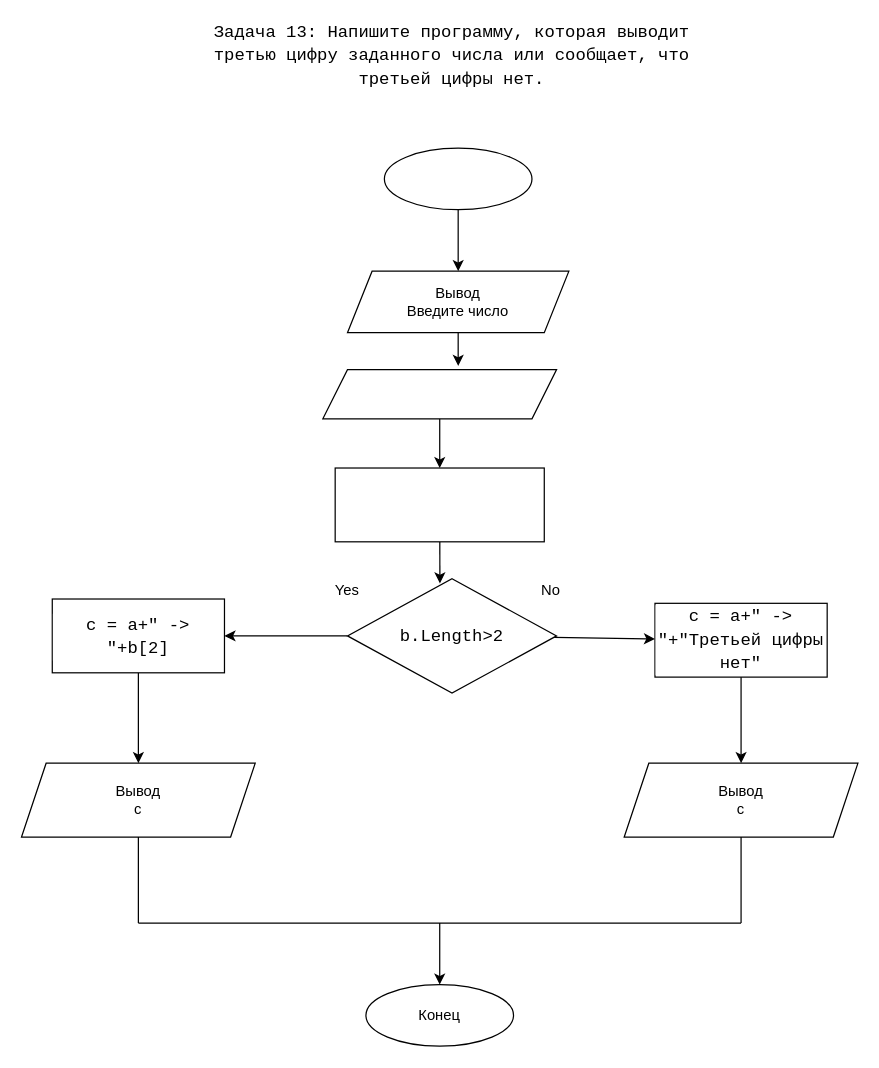
The diagram is 879 pixels wide and 1068 high, and some of its shapes have lost their labels. Each missing label, with the centre of its shape:
b = a.ToCharArray: point (439, 504)
Ввод a: point (439, 393)
Начало: point (457, 178)
